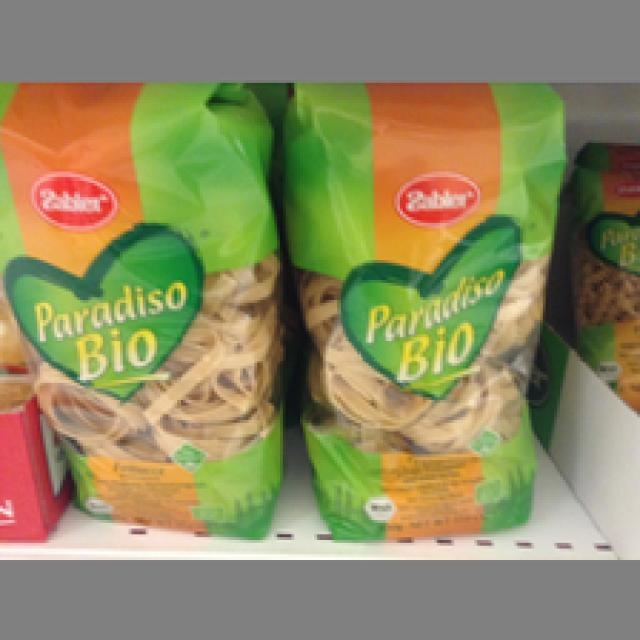groceries: (0, 83, 283, 540), (283, 83, 563, 540)
